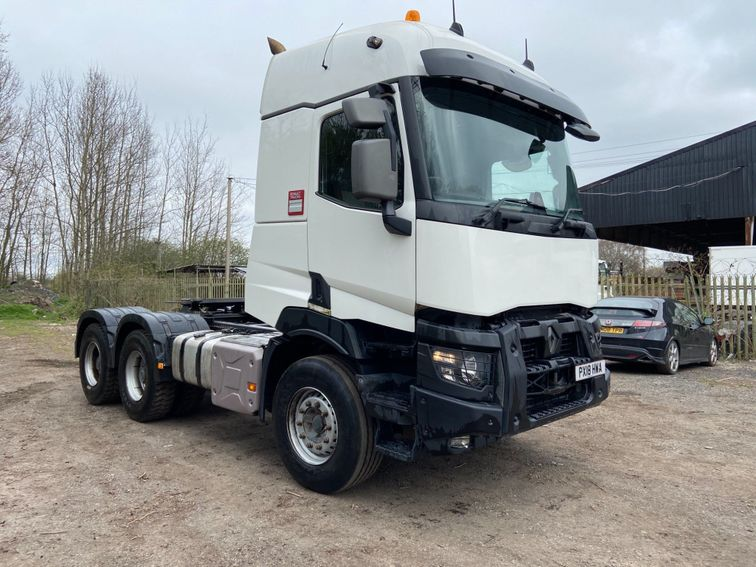Car: (581, 296, 720, 373)
Semi: (73, 10, 611, 494)
